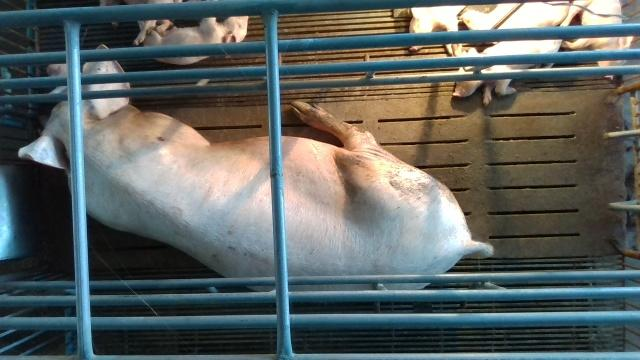piglet: (452, 38, 561, 107), (559, 0, 634, 80), (142, 15, 248, 65), (407, 5, 469, 57), (460, 2, 569, 28)
sow-sit: (18, 43, 493, 290)
